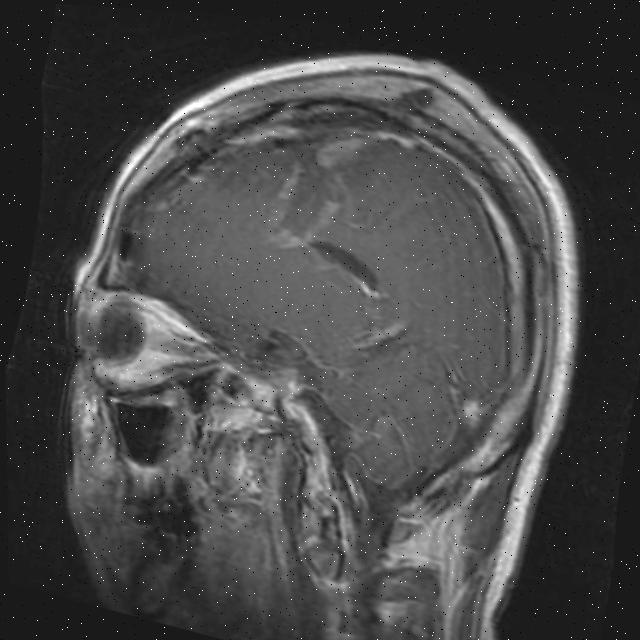Glioma: (262, 112, 374, 268)
